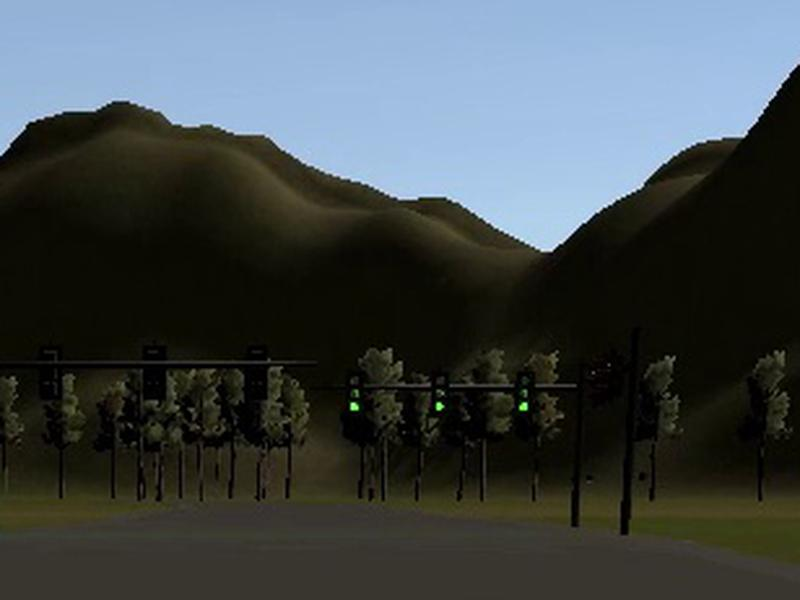Green: (514, 371, 533, 415), (432, 373, 449, 417), (346, 373, 362, 416)
